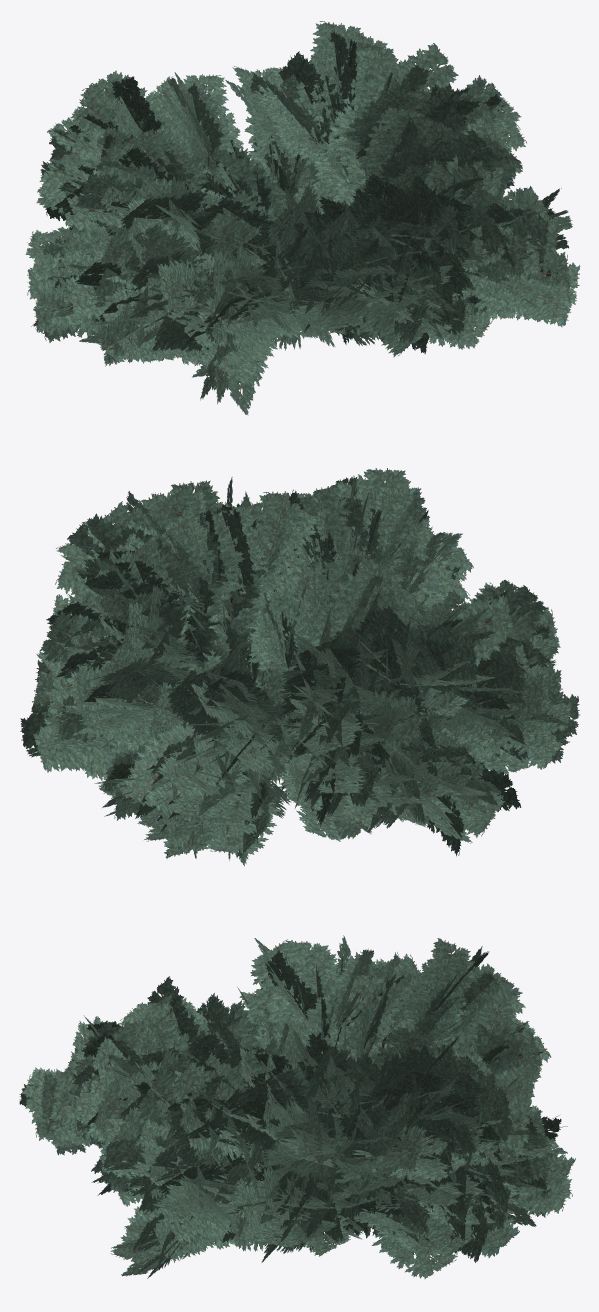
The model's file is juniper_low_v01.fbx.
3 renders of one model, top to bottom at view 1: azimuth 30°, elevation 25°; view 2: azimuth 150°, elevation 25°; view 3: azimuth 270°, elevation 25°, orthographic. The views are drawn at different scales.
Visible parts, largest first — view 1: juniper_low_v01; view 2: juniper_low_v01; view 3: juniper_low_v01.
Part boxes in pixels (box(x1,y1,x2,y2)): juniper_low_v01: box(25, 21, 580, 415); juniper_low_v01: box(20, 468, 579, 866); juniper_low_v01: box(19, 935, 575, 1278).
Bounding box in the file's own units: 127 × 80 × 131.
